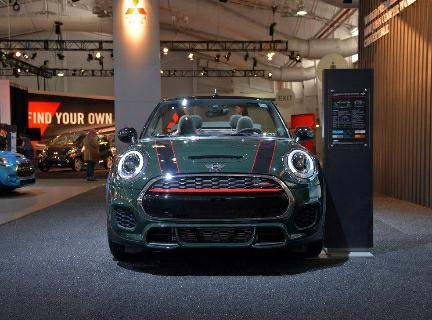MINI-JCW: (106, 84, 325, 260)
